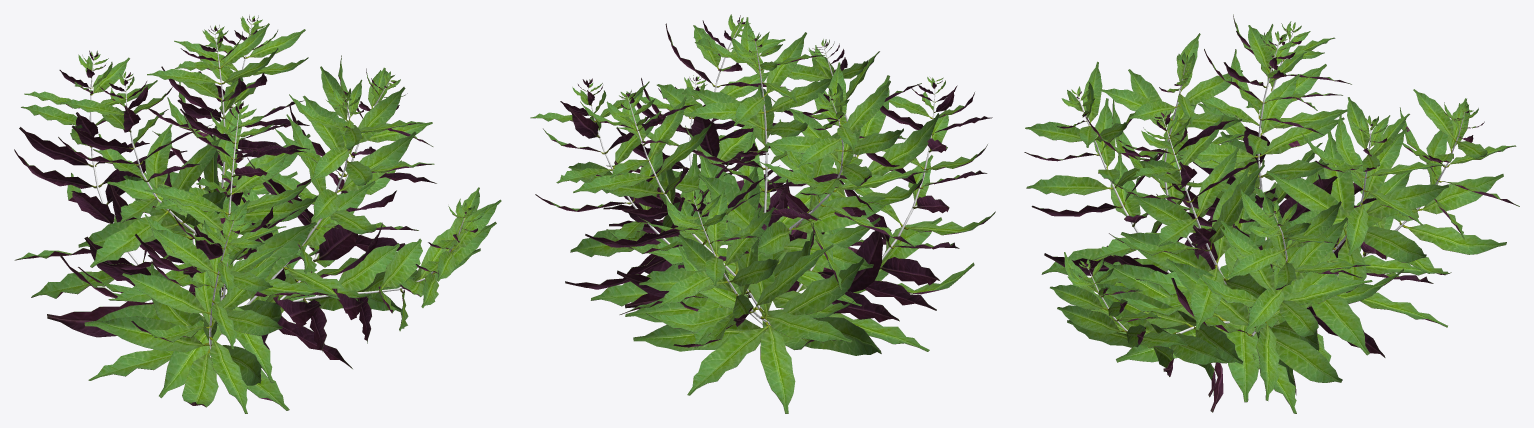
The model's file is wukong-chinese-croton-original.glb.
3 renders of one model, left to right at view 1: azimuth 30°, elevation 25°; view 2: azimuth 150°, elevation 25°; view 3: azimuth 270°, elevation 25°, orthographic.
Visible parts, largest first — view 1: wukong-chinese-croton-original; view 2: wukong-chinese-croton-original; view 3: wukong-chinese-croton-original.
Boxes of the visible parts, box(x1,y1,x2,y2) form: wukong-chinese-croton-original: box(14, 15, 501, 413); wukong-chinese-croton-original: box(530, 14, 995, 413); wukong-chinese-croton-original: box(1024, 14, 1519, 413).
Bounding box in the file's own units: 1.76 × 1.35 × 1.98.
Materials: 3 (2 with a texture image).
